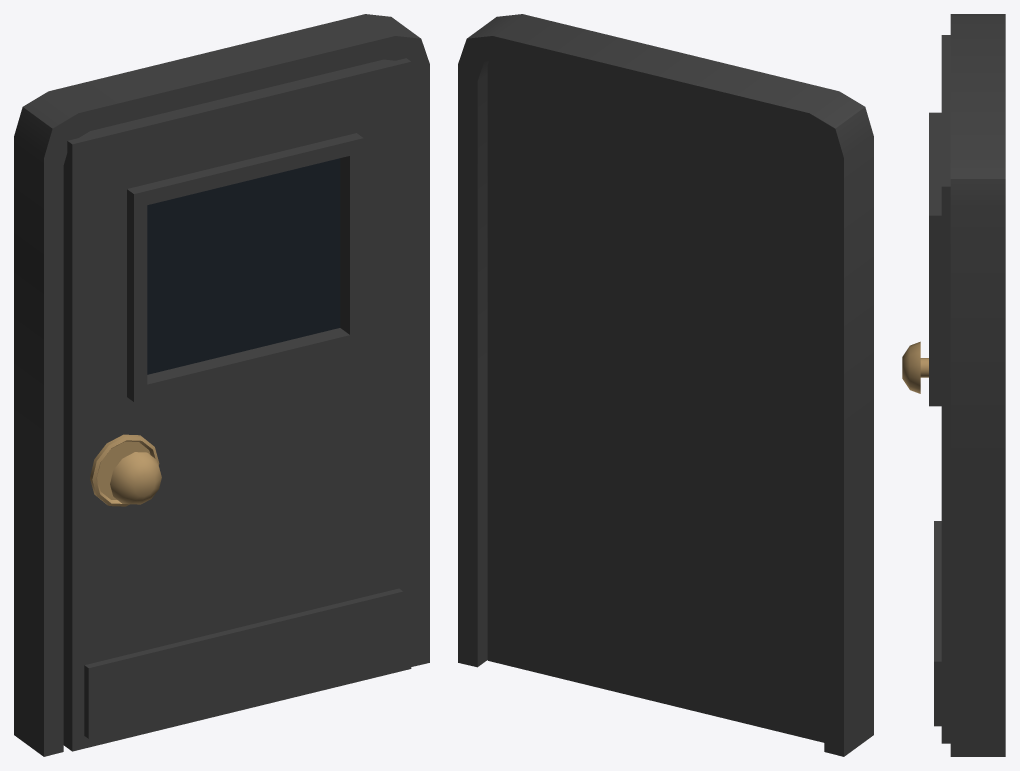
The model's file is SM_door_02.fbx.
The picture shows the model from 3 angles, left to right: view 1: azimuth 30°, elevation 25°; view 2: azimuth 150°, elevation 25°; view 3: azimuth 270°, elevation 25°; orthographic projection. The views are drawn at different scales.
Visible parts, largest first — view 1: Object016; view 2: Object016; view 3: Object016.
Part boxes in pixels (box(x1,y1,x2,y2)): Object016: box(14, 14, 429, 756); Object016: box(458, 14, 873, 756); Object016: box(902, 14, 1005, 756).
Bounding box in the file's own units: 50.35 × 79.2 × 12.71.
